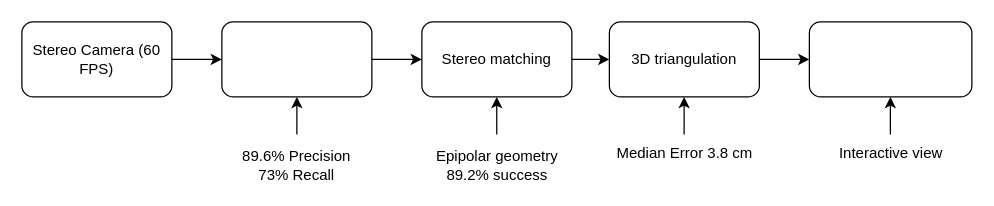
Some shapes in this 994 by 206 pixel diagram are drawn without their labels. The box of each missing label's shape, as (x1, y1, x2, y2) in pixels:
3D Court visualization: (808, 21, 972, 97)
YOLOv8n Detection: (221, 21, 372, 97)
